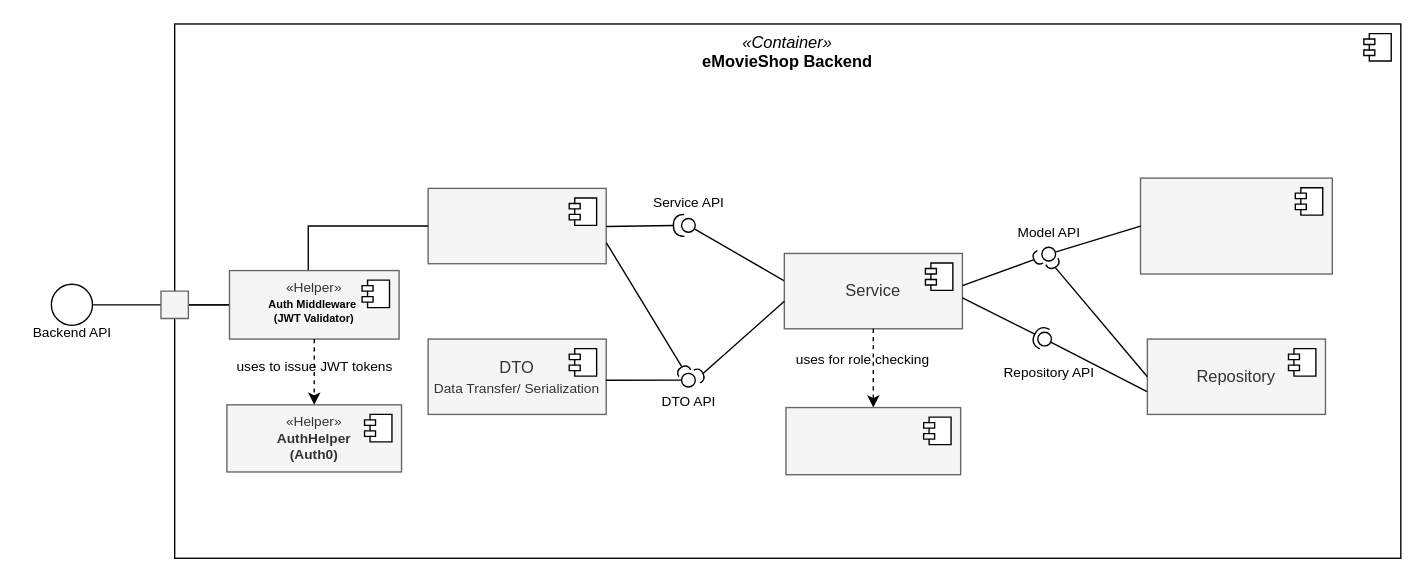
The diagram is 1425 pixels wide and 582 high, and some of its shapes have lost their labels. Each missing label, with the centre of its shape:
"Controller" goes at pixel 516 225.
"Domain Model DDD" goes at pixel 1235 225.
"«Helper» RoleGuard (RBAC)" goes at pixel 873 440.
